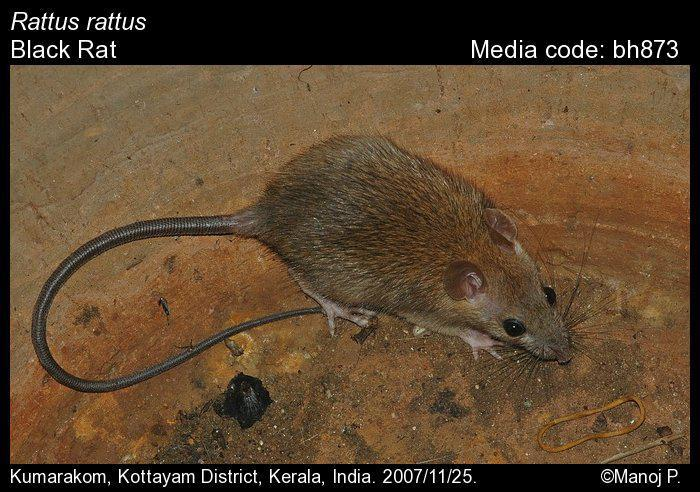rat: (32, 136, 573, 392)
